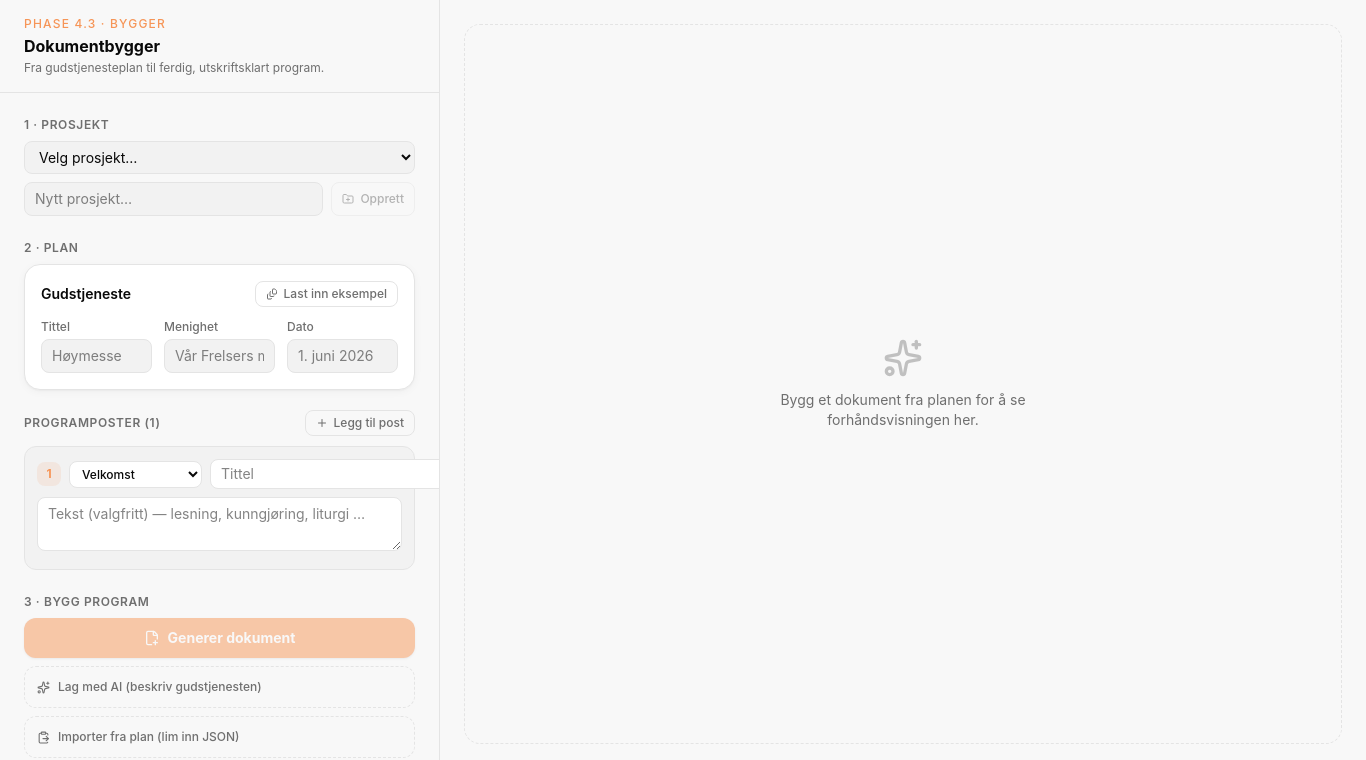
BuilderPage › surfaces 'AI ikke aktivert' when cloud AI is off (feature/consent gate)
Select "Sommer 2026" in the dropdown named "Velg prosjekt" at (220, 158), box 24,141 -> 415,174
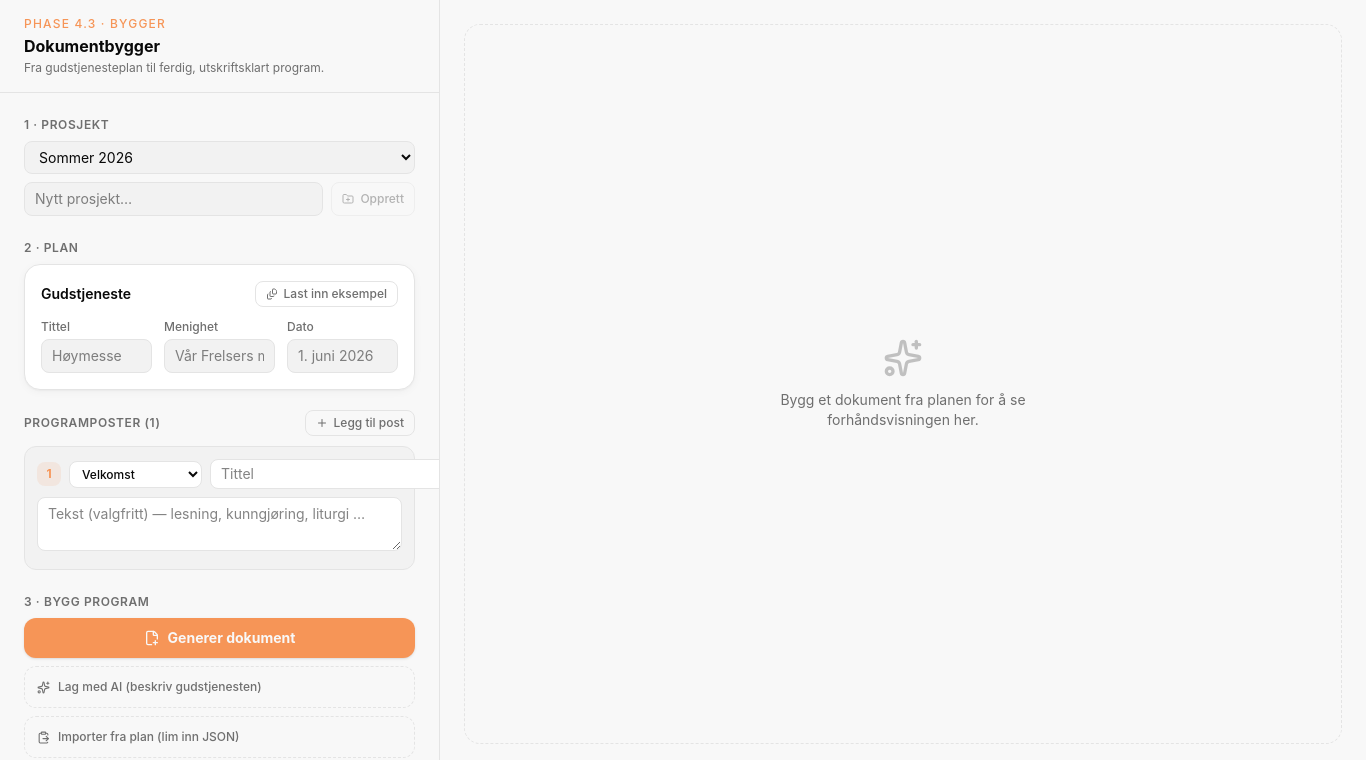
Click the button "Lag med AI (beskriv gudstjenesten)" at (220, 687), box 37,679 -> 402,695
(page scrolled)
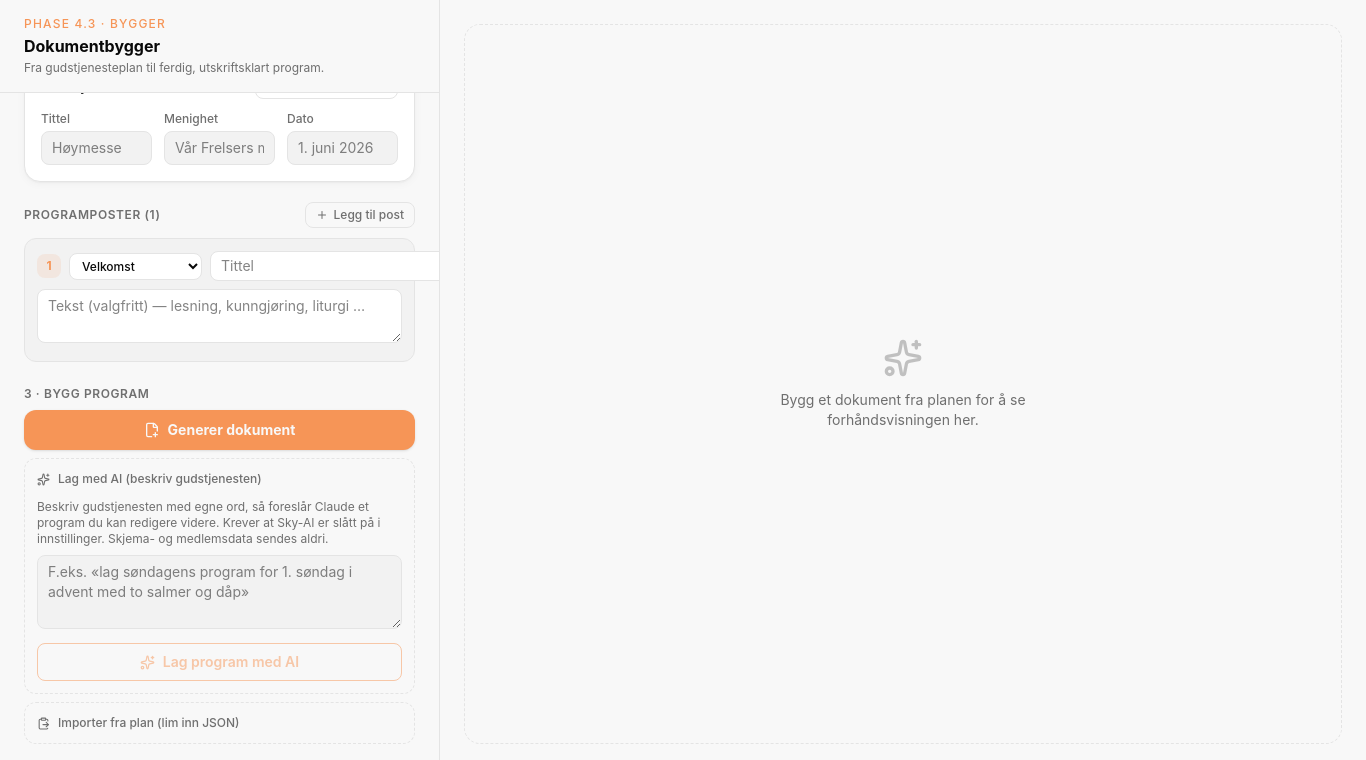
Replace the text in the text box named "AI-intensjon" with "lag et program" at (220, 592), box 37,555 -> 402,629
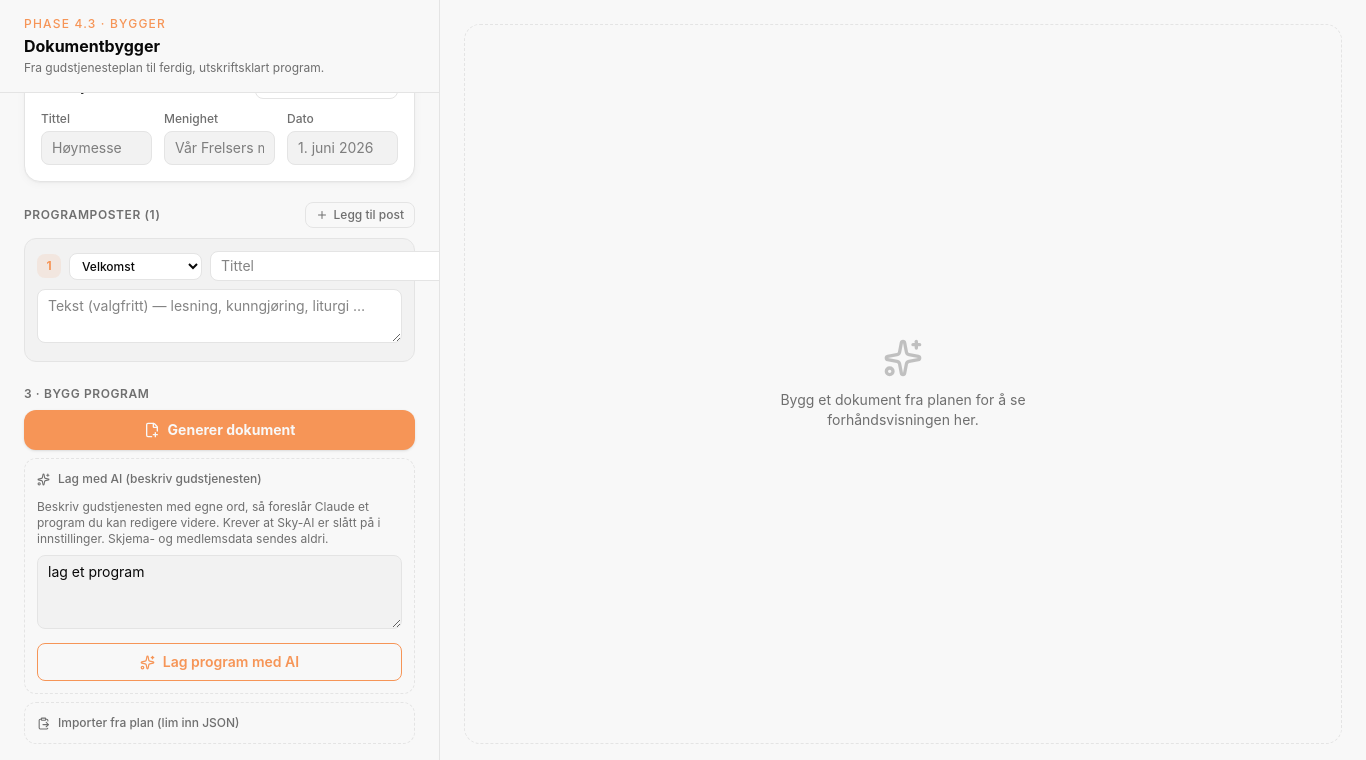
Click the button "Lag program med AI" at (220, 662), box 37,643 -> 402,681
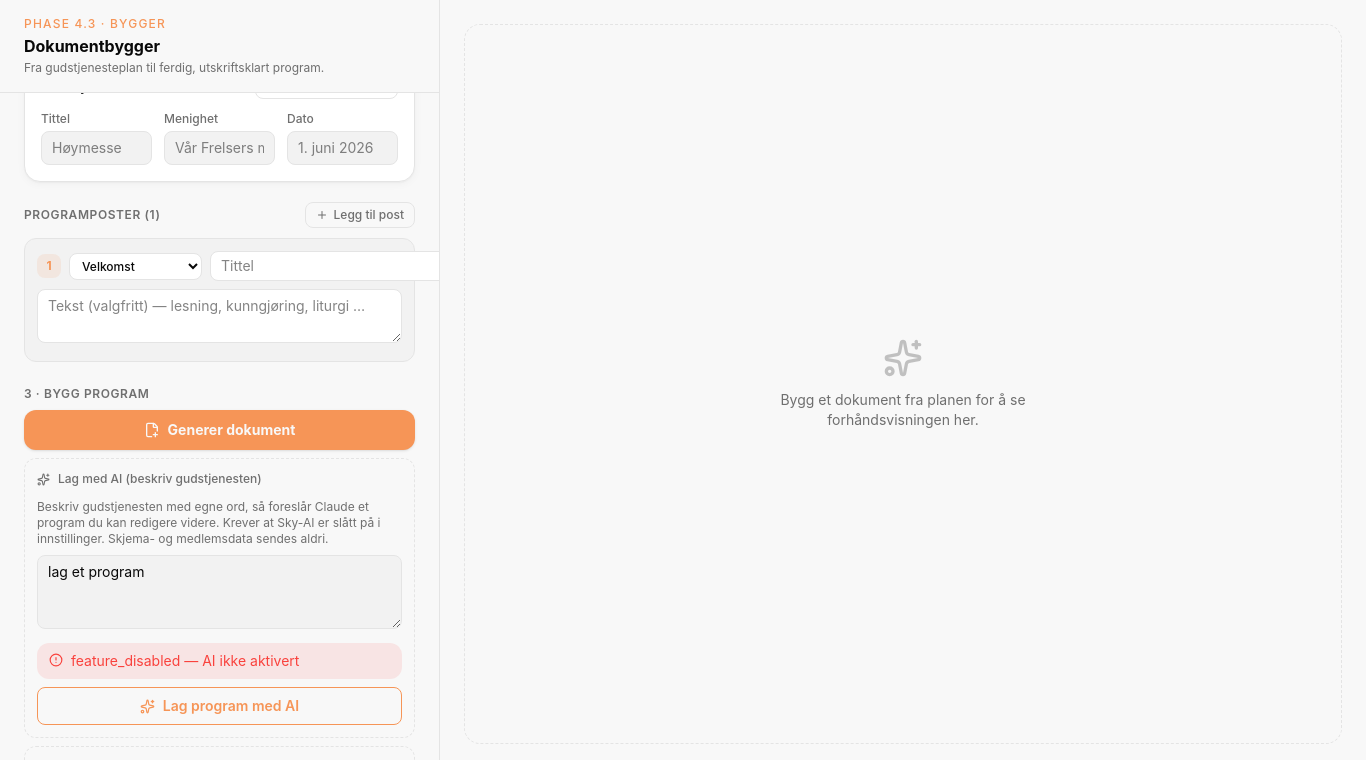
Result: the text "feature_disabled — AI ikke aktivert" is shown at 71,651 -> 299,671
